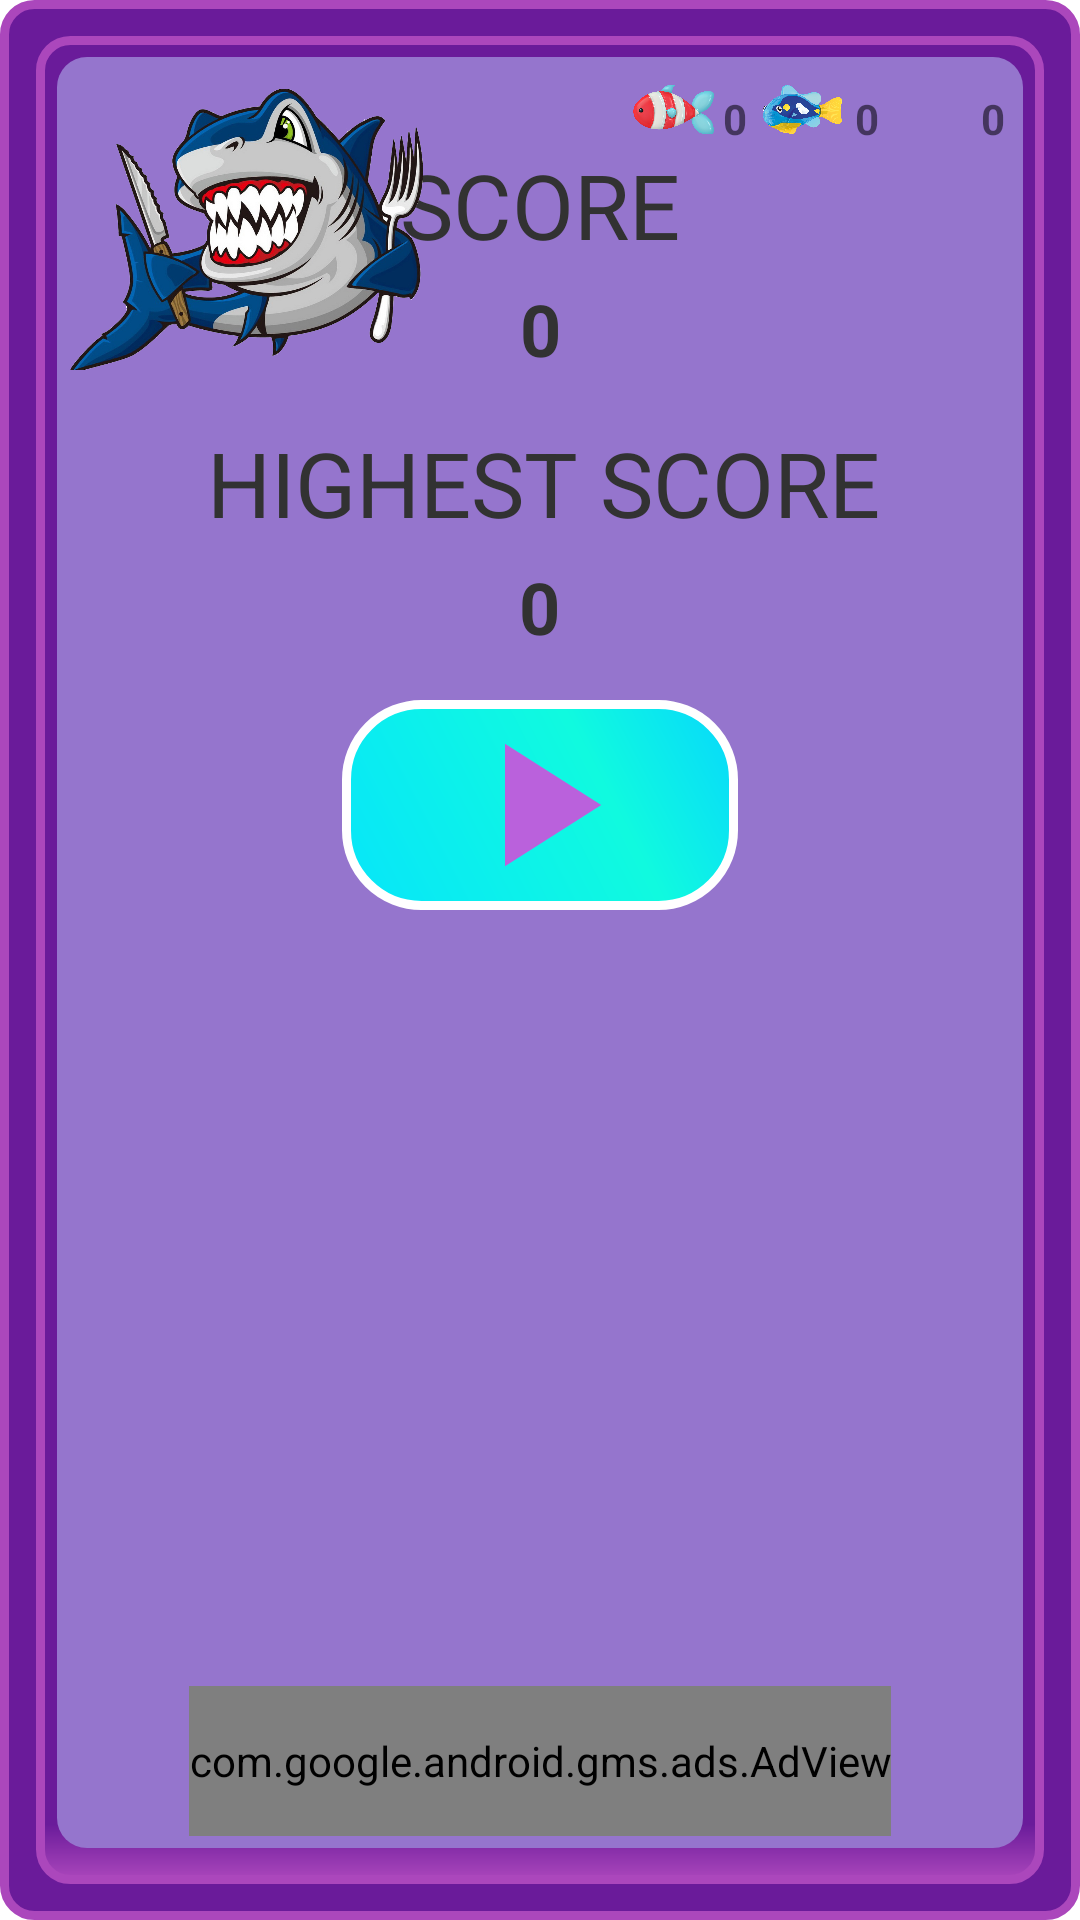

Icon bounding boxes for this 1080*1920 phone screenshot, format (x1, y1, x2, y2):
kirmizibalik: (633, 85, 714, 134)
mavibalik: (763, 85, 842, 134)
